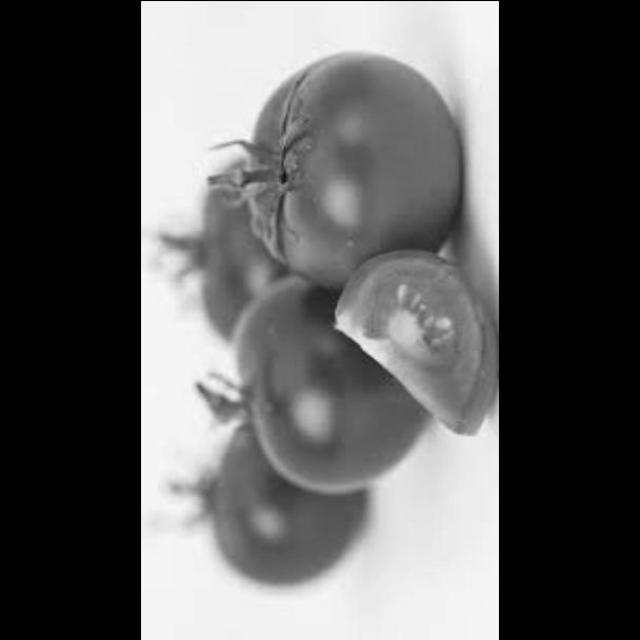ca chua: (226, 50, 466, 283), (221, 276, 423, 498), (326, 239, 497, 447), (192, 425, 374, 592), (175, 150, 298, 336)
